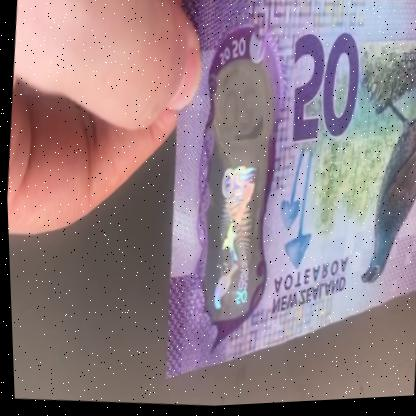50B: (199, 73, 268, 318)
